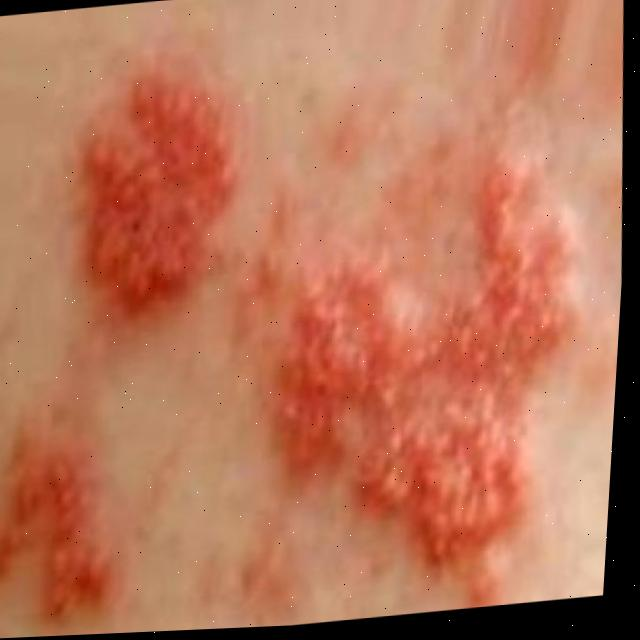Shingles: (273, 183, 596, 554), (66, 74, 252, 300), (0, 439, 130, 639)
